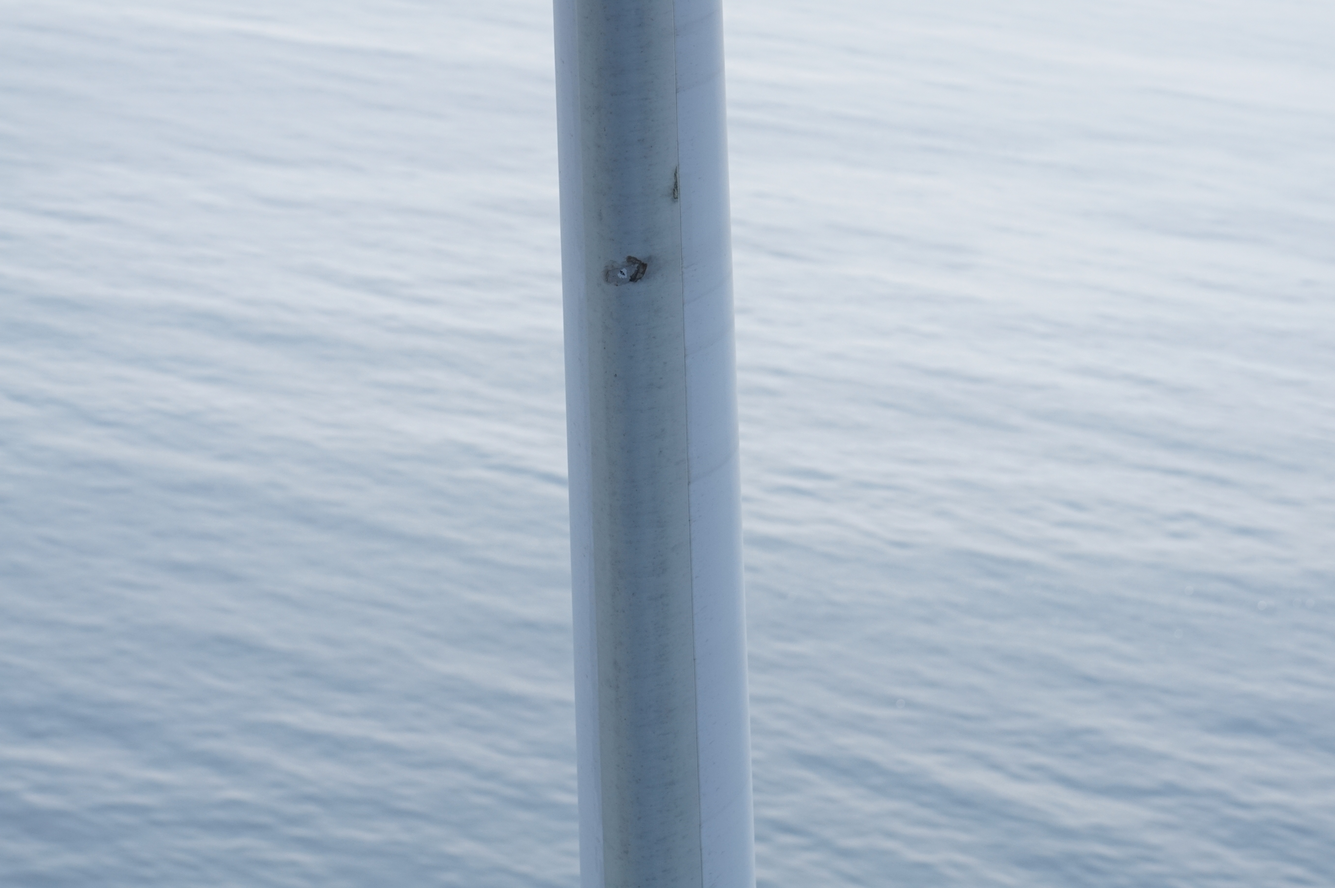Damage: (607, 253, 650, 287)
